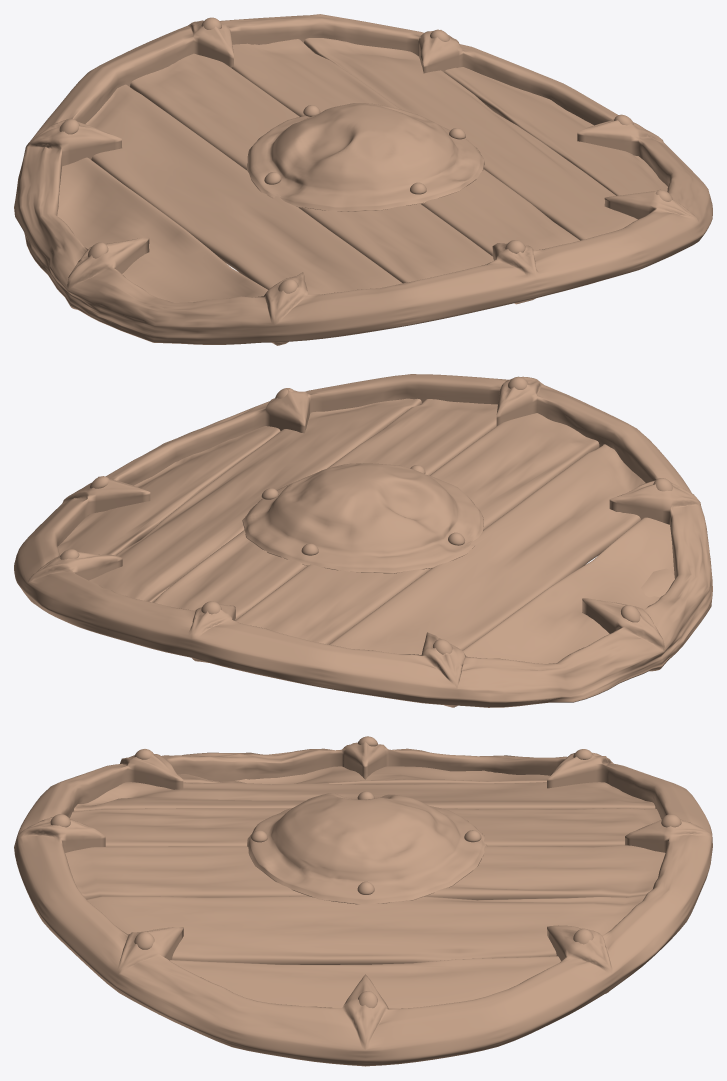
File: escut_highpoly_substance.fbx
The picture shows the model from 3 angles, top to bottom: view 1: azimuth 30°, elevation 25°; view 2: azimuth 150°, elevation 25°; view 3: azimuth 270°, elevation 25°; orthographic projection.
Parts seen in each view (by area): view 1: fusta_high, metall_high, tuercas_high; view 2: fusta_high, metall_high, tuercas_high; view 3: fusta_high, metall_high, tuercas_high.
Part boxes in pixels (x1,y1,x2,y2): fusta_high: (57,38,667,302); metall_high: (14,14,712,345); tuercas_high: (59,17,672,293); fusta_high: (57,398,674,663); metall_high: (14,374,712,707); tuercas_high: (60,376,672,654); fusta_high: (65,766,665,1008); metall_high: (14,742,712,1066); tuercas_high: (50,736,681,1008).
Size of the model in its own units: 9.87 by 1.99 by 9.95.
